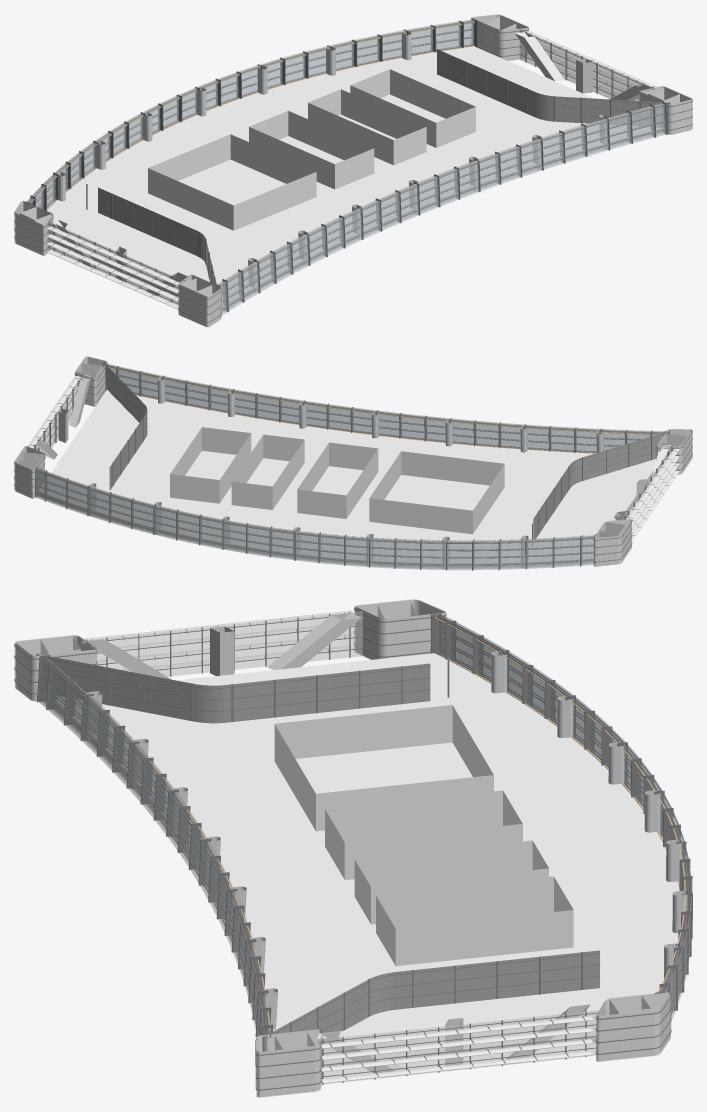
The picture shows the model from 3 angles, top to bottom: view 1: azimuth 30°, elevation 25°; view 2: azimuth 150°, elevation 25°; view 3: azimuth 270°, elevation 25°; orthographic projection. The views are drawn at different scales.
Parts seen in each view (by area): view 1: floor.014; view 2: floor.014; view 3: floor.014.
Boxes of the visible parts, bbox=[...] form: floor.014: bbox=[14, 14, 692, 327]; floor.014: bbox=[14, 356, 692, 570]; floor.014: bbox=[14, 599, 692, 1097].
Bounding box in the file's own units: 81.81 × 3.81 × 51.74.
14 materials, 1 textured.
